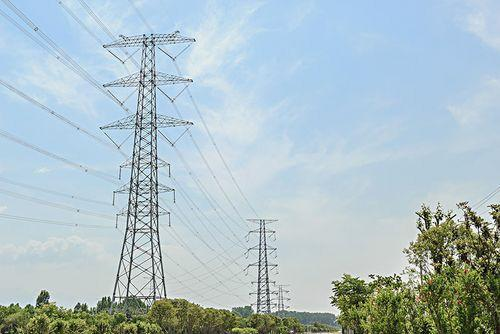power_tower: (100, 27, 200, 307), (244, 215, 280, 316), (273, 280, 296, 322)
